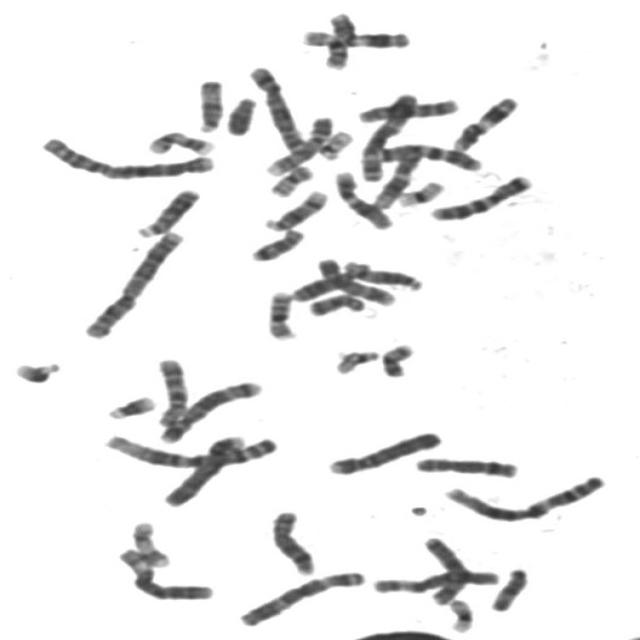A1: (435, 468, 610, 524), (94, 427, 282, 470)
A2: (75, 224, 188, 341), (33, 130, 219, 182)
A3: (230, 564, 370, 628), (352, 86, 420, 183)
B4: (155, 428, 251, 508), (319, 424, 445, 476)
B5: (153, 374, 265, 444), (240, 59, 308, 153)
C10: (350, 92, 461, 124), (148, 351, 191, 429)
C11: (444, 90, 521, 152), (294, 23, 414, 50)
C12: (326, 164, 395, 230), (365, 145, 423, 210)
C6: (109, 542, 217, 602), (365, 562, 503, 596)
C7: (422, 169, 536, 222), (368, 138, 485, 172)
C8: (262, 504, 319, 576), (407, 451, 521, 480)
C9: (258, 110, 337, 177), (310, 252, 399, 308)
D13: (128, 182, 202, 239), (286, 258, 373, 303)
D14: (256, 184, 331, 232), (337, 255, 427, 292)
D15: (483, 560, 532, 612), (189, 74, 227, 134)
E16: (296, 23, 352, 70), (260, 285, 300, 341)
E17: (124, 515, 173, 569), (139, 125, 217, 156)
E18: (242, 222, 306, 263), (301, 288, 368, 318)
F19: (390, 175, 448, 208), (440, 592, 478, 634)
F20: (262, 159, 316, 198), (373, 336, 417, 378)
G21: (99, 390, 159, 420), (6, 354, 64, 385)
G22: (326, 343, 382, 376), (310, 124, 356, 160)
X: (416, 530, 470, 606)
Y: (218, 91, 261, 137)
